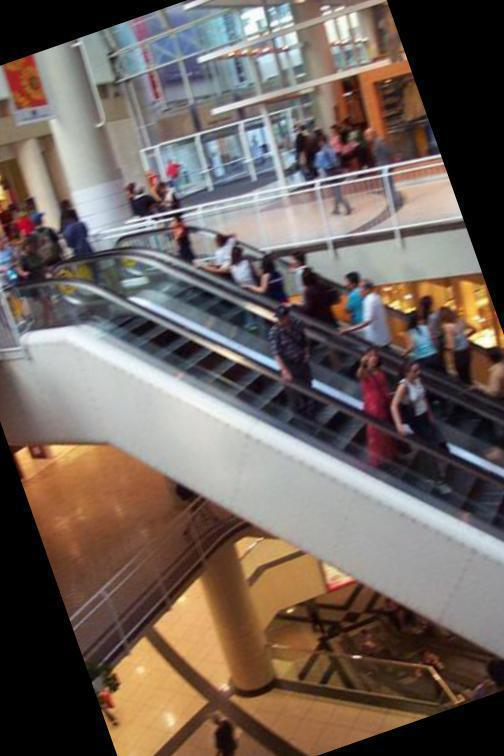Escaleras: (0, 81, 504, 756)
